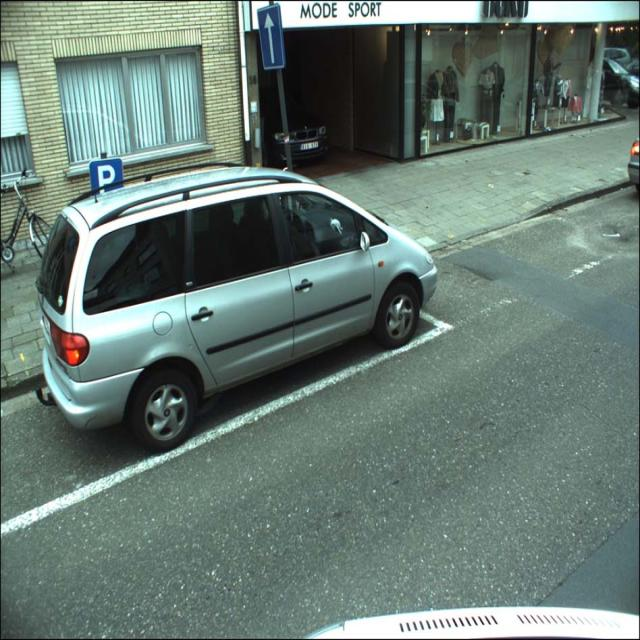park: (90, 159, 125, 204)
